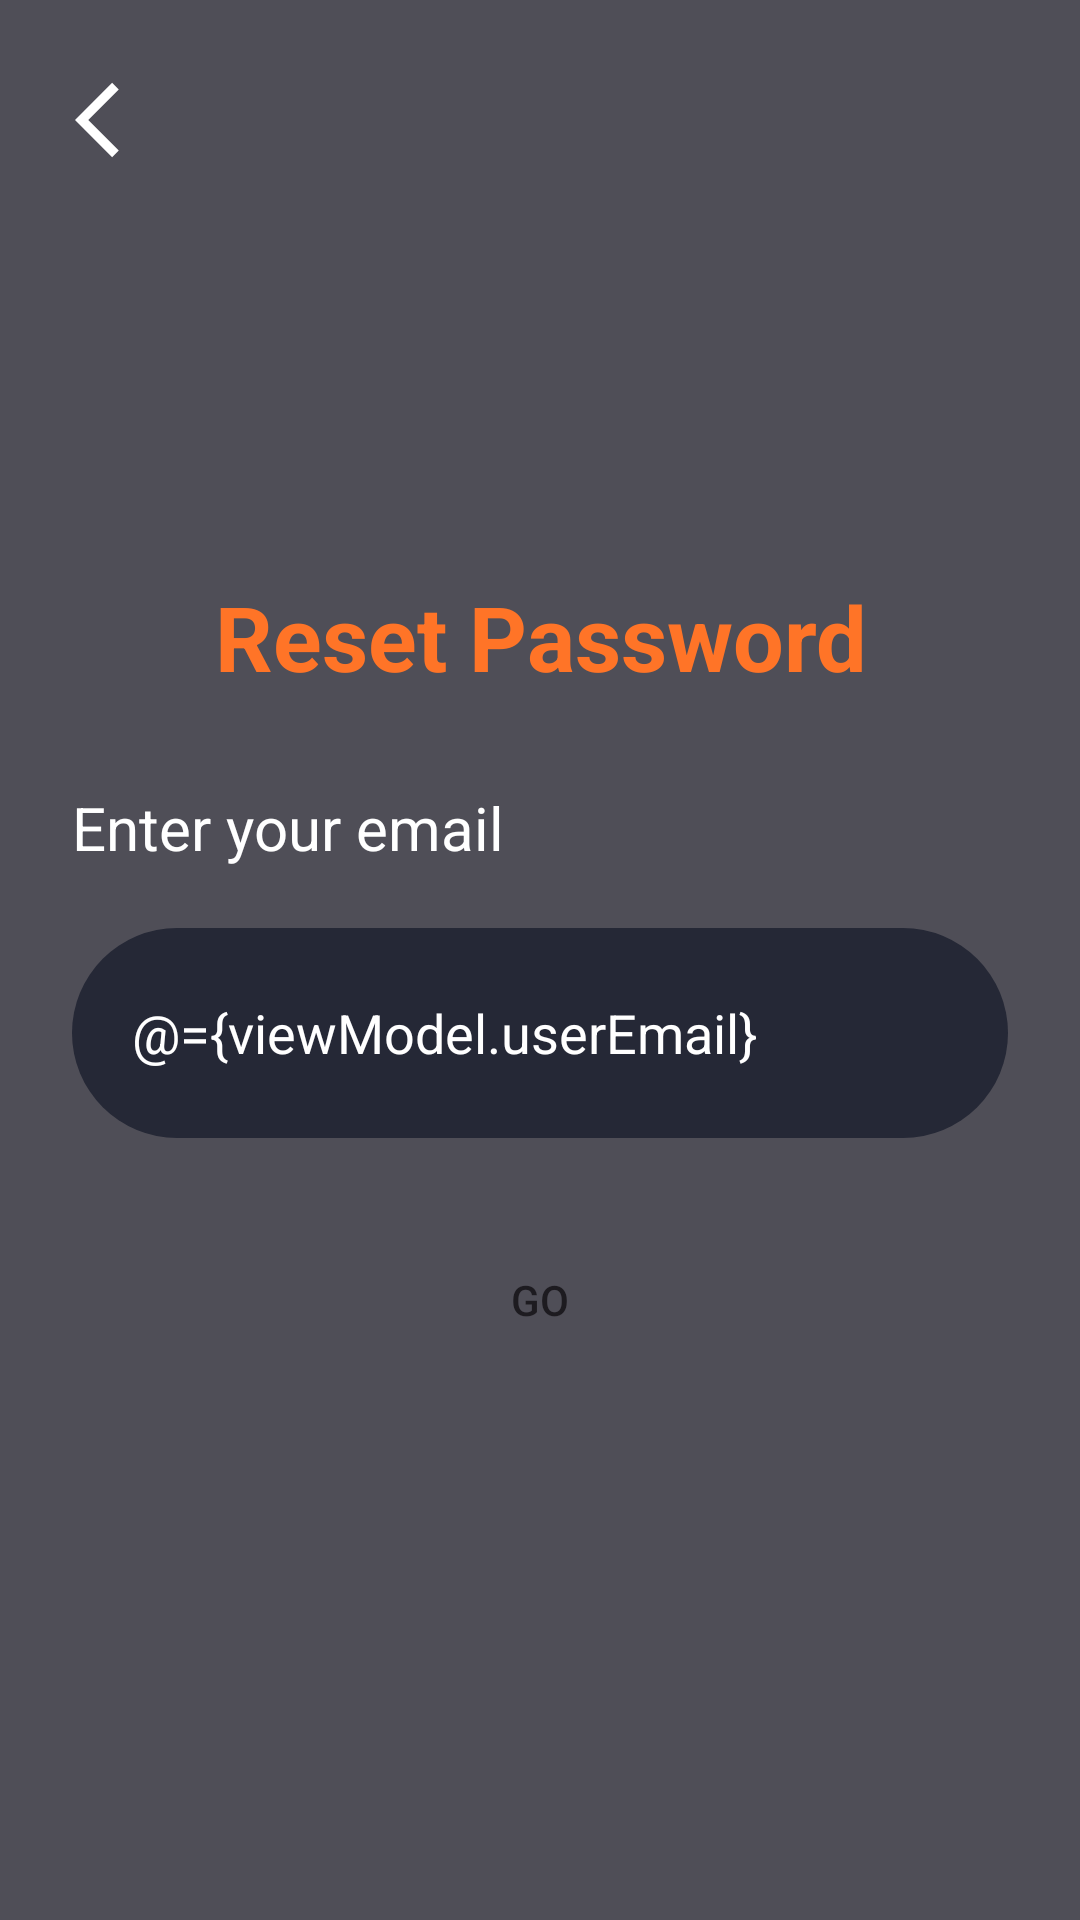

Icons on this 1080*1920 Android screen, each with the point to tap as [x,y]:
arrow back: [97,120]
